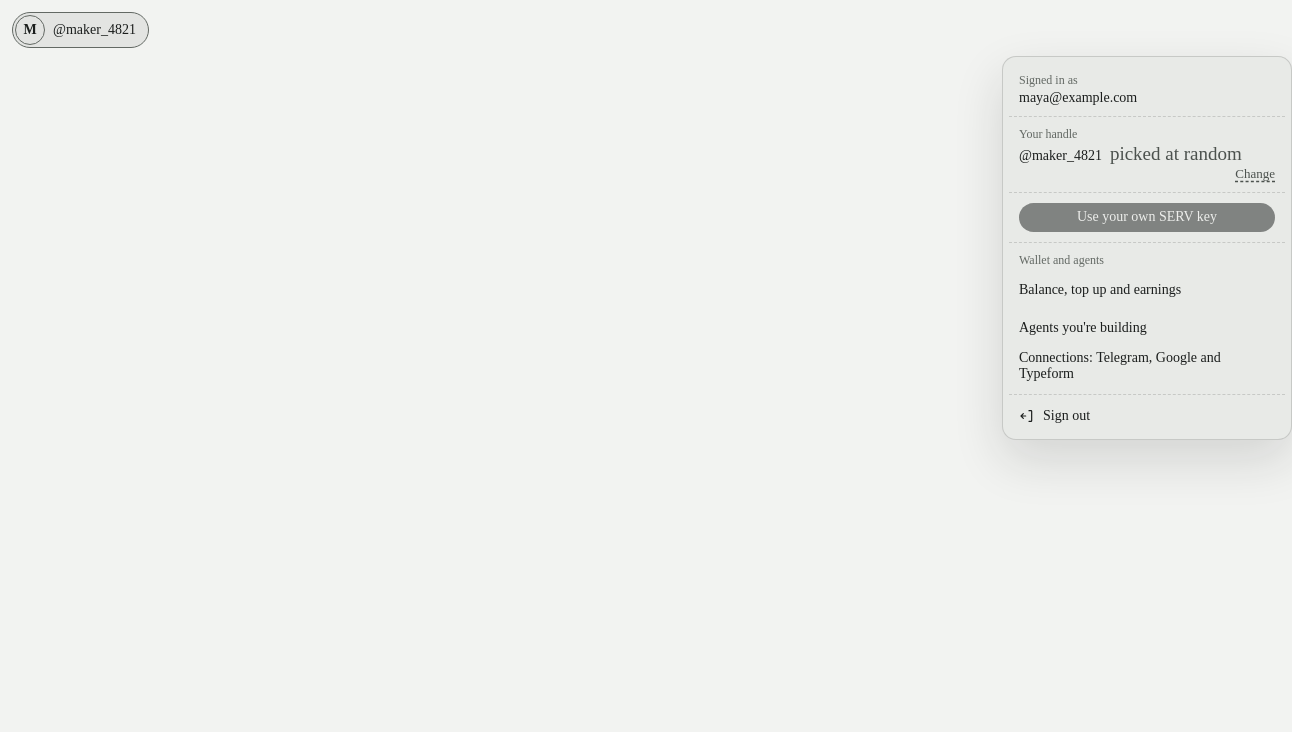
Scenario: Your handle › shows why saving failed and stays in the editor
Click the button "Change" at (1255, 174), box top-left (1235, 166), bottom-right (1275, 182)
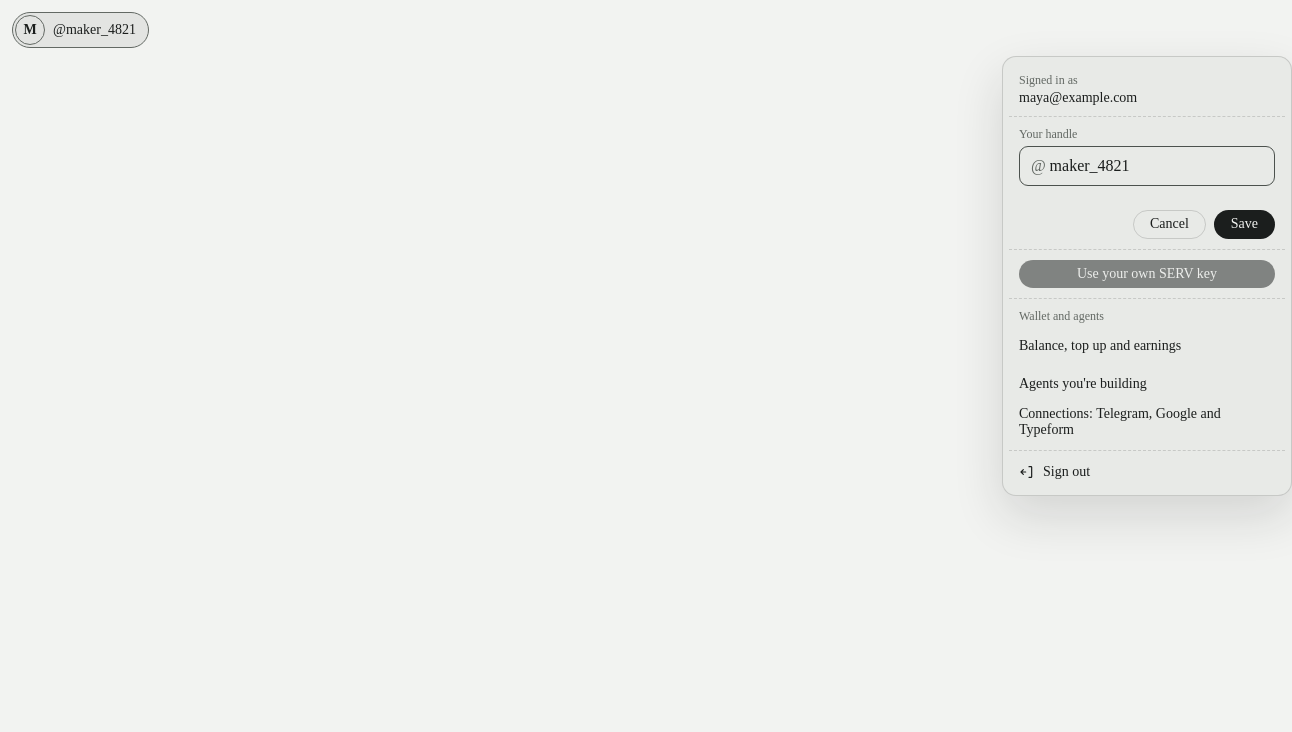
Replace the text in the field labelled "Your handle" with "maya_r" at (1147, 166), box top-left (1019, 146), bottom-right (1275, 186)
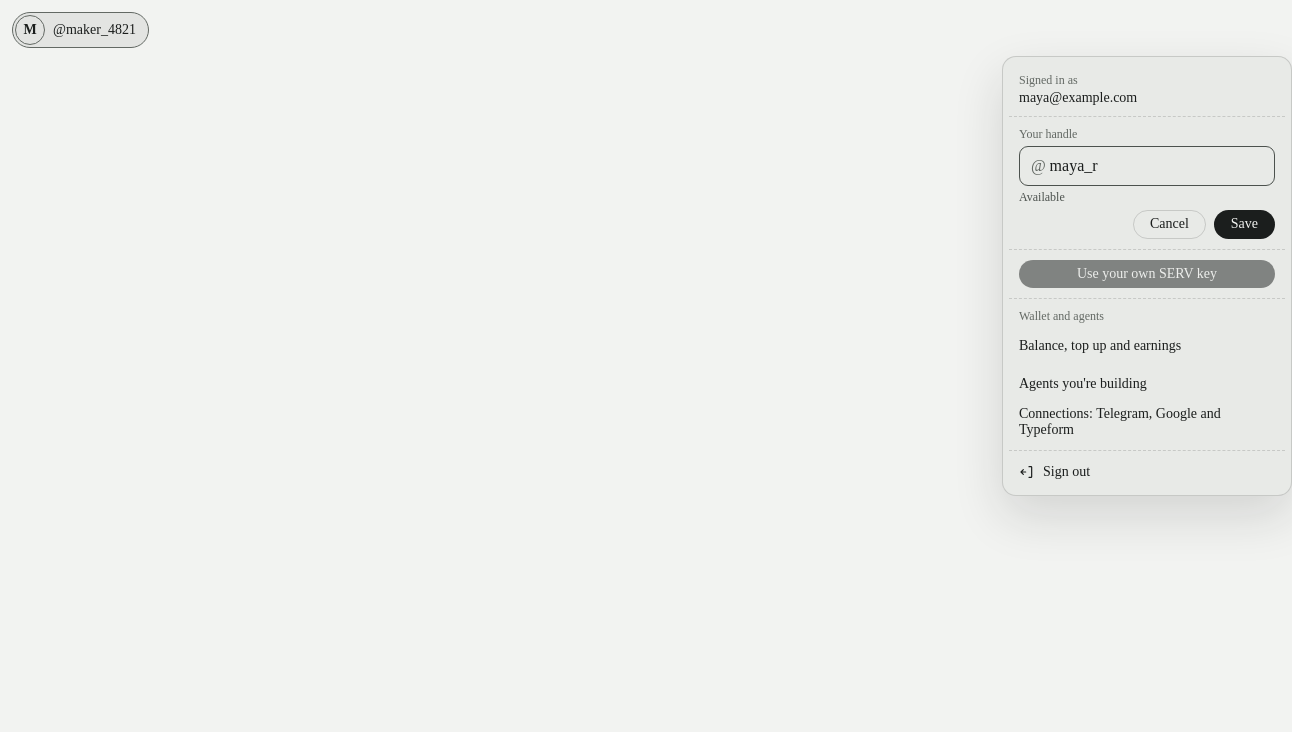
Result: the text "Available" is shown at top-left (1019, 190), bottom-right (1065, 204)
Click the button "Save" at (1244, 225), box top-left (1214, 210), bottom-right (1275, 239)
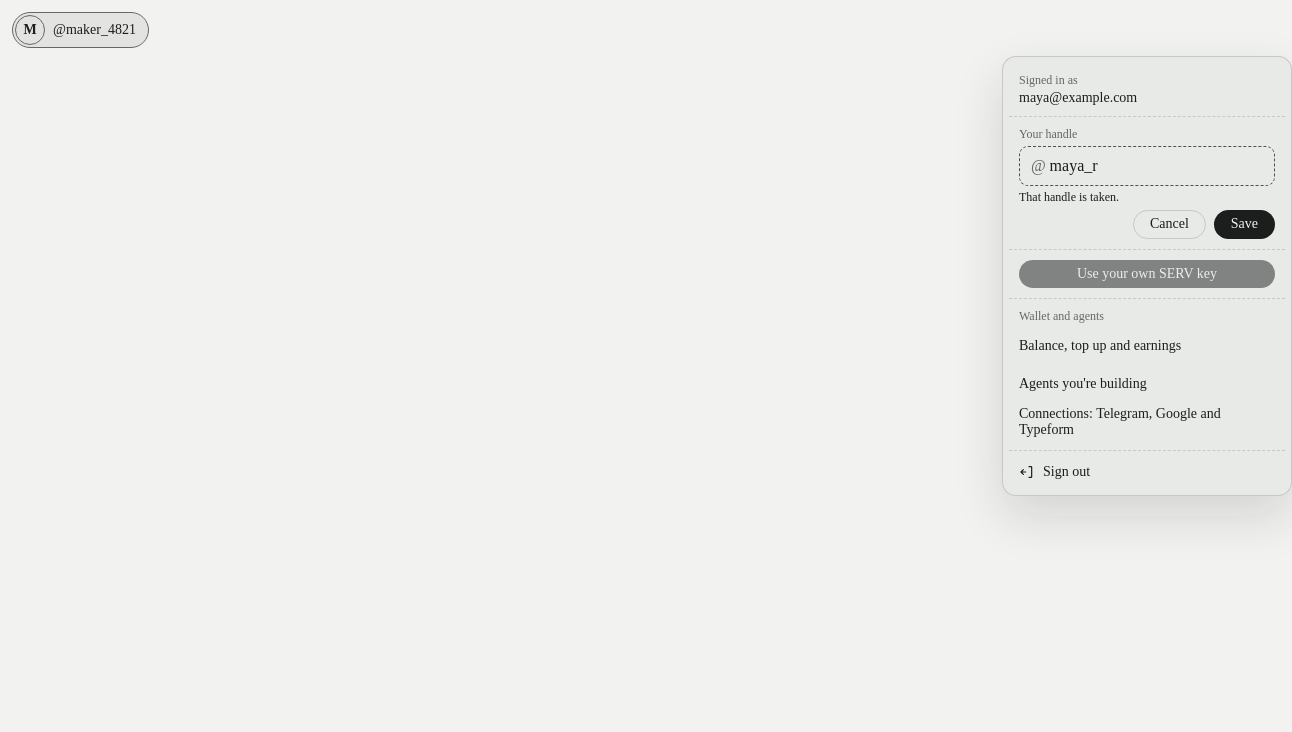
Result: the text "That handle is taken." is shown at top-left (1019, 190), bottom-right (1119, 204)
